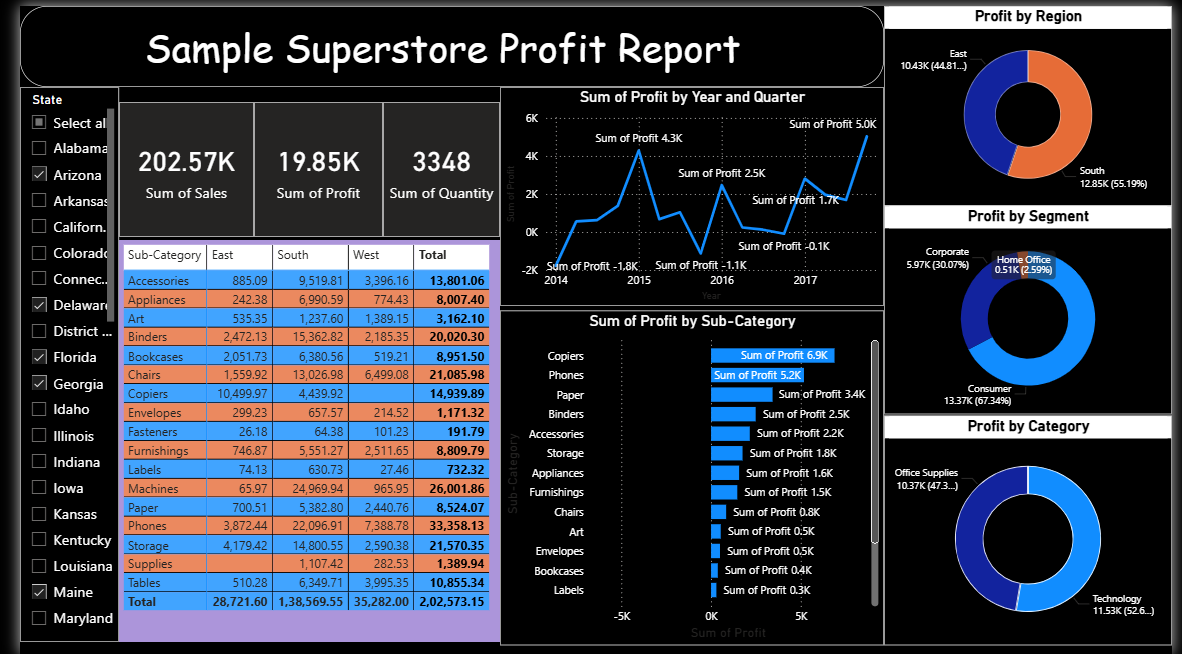

This screenshot's page, from the dashboard's own definition file:
{"tool":"powerbi","page":{"name":"Page 1","canvas":[1280,720],"ordinal":0},"visuals":[{"type":"textbox","box":[0,0,960,90],"z":0},{"type":"donutChart","title":"Profit by Category","fields":{"Category":["Orders.Category"],"Y":["Sum(Orders.Profit)"]},"box":[960,455,320,255],"z":1000},{"type":"donutChart","title":"Profit by Segment","fields":{"Category":["Orders.Segment"],"Y":["Sum(Orders.Profit)"]},"box":[960,221.7,320,231.7],"z":2000},{"type":"donutChart","title":"Profit by Region","fields":{"Y":["Sum(Orders.Profit)"],"Category":["Orders.Region"]},"box":[960,0,320,221.7],"z":3000},{"type":"barChart","fields":{"Y":["Sum(Orders.Profit)"],"Category":["Orders.Sub-Category"]},"box":[533.3,338.3,426.7,371.7],"z":4000},{"type":"lineChart","fields":{"Category":["Orders.Order Date.Variation.Date Hierarchy.Year","Orders.Order Date.Variation.Date Hierarchy.Quarter","Orders.Order Date.Variation.Date Hierarchy.Month","Orders.Order Date.Variation.Date Hierarchy.Day"],"Y":["Sum(Orders.Profit)"]},"box":[533.3,90,426.7,243.3],"z":5000},{"type":"slicer","fields":{"Values":["Orders.State"]},"box":[0,90,110,616.7],"z":6000},{"type":"pivotTable","fields":{"Rows":["Orders.Sub-Category"],"Columns":["Orders.Region"],"Values":["Sum(Orders.Sales)"]},"box":[110,260,423.3,446.7],"z":7000},{"type":"card","fields":{"Values":["Sum(Orders.Sales)"]},"box":[110,106.7,150,150],"z":8000},{"type":"card","fields":{"Values":["Sum(Orders.Profit)"]},"box":[260,106.7,143.3,150],"z":9000},{"type":"card","fields":{"Values":["Sum(Orders.Quantity)"]},"box":[403.3,106.7,130,150],"z":10000}]}

Visuals, with their boxes in screenshot pixels (x1, y1, x2, y2), scaled from the page's 1280x720 canvas onto the 1182x654 screenshot:
textbox: box=[0, 0, 886, 82]
"Profit by Category" donutChart: box=[886, 413, 1181, 645]
"Profit by Segment" donutChart: box=[886, 201, 1181, 412]
"Profit by Region" donutChart: box=[886, 0, 1181, 201]
barChart - Sum(Orders.Profit) x Orders.Sub-Category: box=[492, 307, 886, 645]
lineChart - Orders.Order Date.Variation.Date Hierarchy.Year x Orders.Order Date.Variation.Date Hierarchy.Quarter: box=[492, 82, 886, 303]
slicer - Orders.State: box=[0, 82, 102, 642]
pivotTable - Orders.Sub-Category x Orders.Region: box=[102, 236, 492, 642]
card - Sum(Orders.Sales): box=[102, 97, 240, 233]
card - Sum(Orders.Profit): box=[240, 97, 372, 233]
card - Sum(Orders.Quantity): box=[372, 97, 492, 233]
